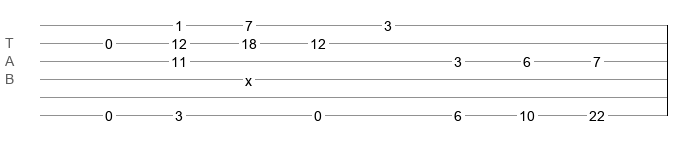0: (105, 36, 113, 46), (105, 108, 113, 118), (314, 108, 322, 118)
1: (175, 18, 183, 28)
10: (519, 108, 535, 118)
11: (171, 54, 187, 64)
12: (171, 36, 187, 46), (310, 36, 326, 46)
18: (241, 36, 257, 46)
22: (589, 108, 605, 118)
3: (175, 108, 183, 118), (384, 18, 392, 28), (454, 54, 462, 64)
6: (454, 108, 462, 118), (523, 54, 531, 64)
7: (245, 18, 253, 28), (593, 54, 601, 64)
x: (245, 73, 252, 81)
